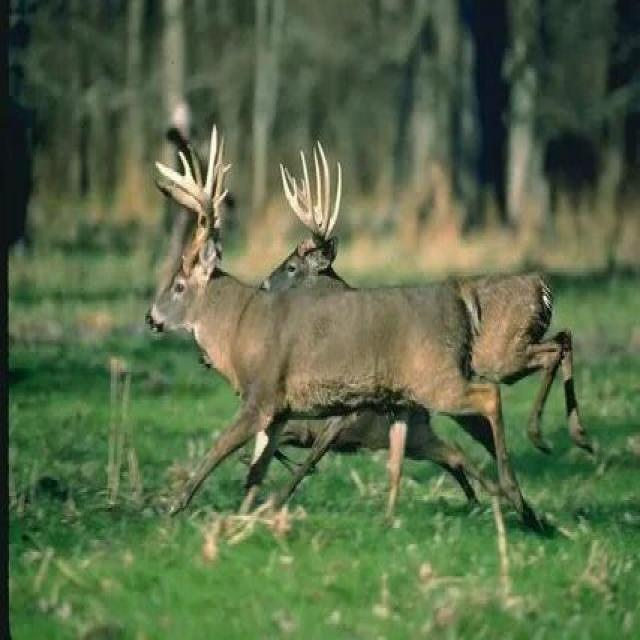deer: (139, 173, 521, 552), (242, 185, 621, 492)
